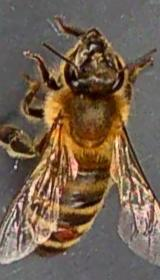varroa_mite: (39, 212, 83, 256)
